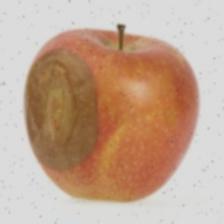apple: (16, 6, 195, 197)
